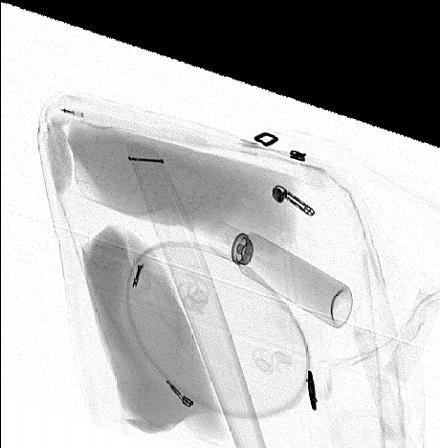Sprayer: (208, 204, 352, 305)
